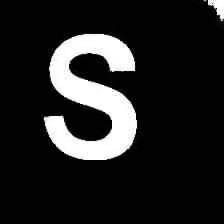LTR_S: (41, 25, 143, 167)
